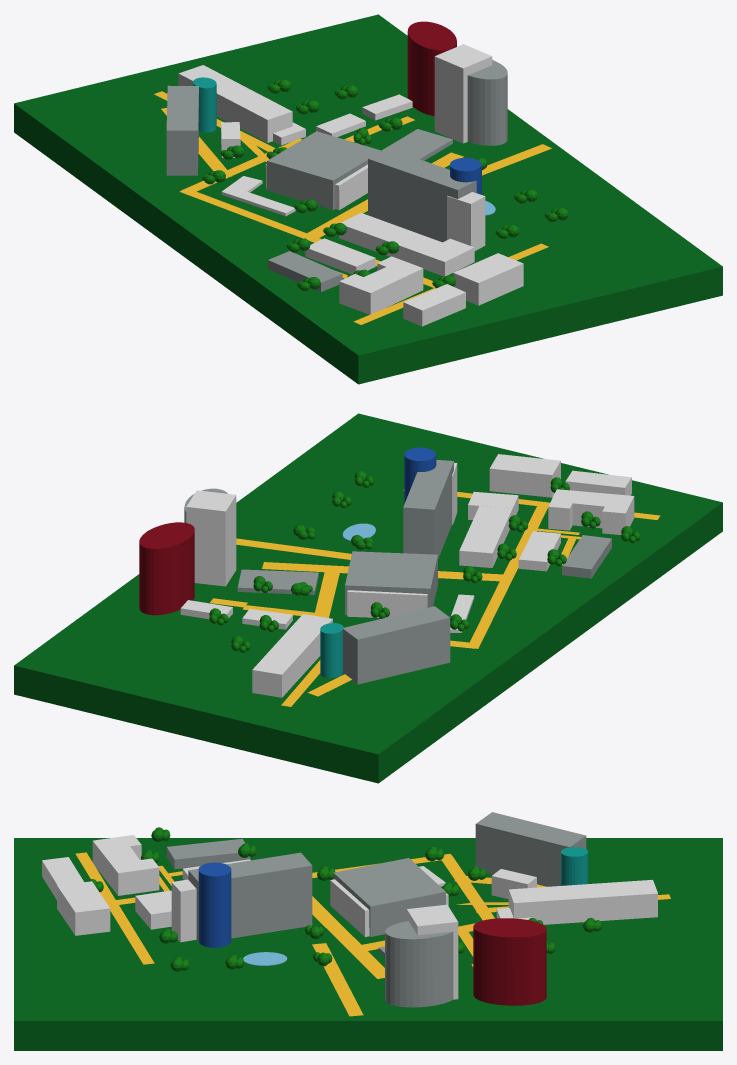
File: MapV2.glb
3 renders of one model, top to bottom at view 1: azimuth 30°, elevation 25°; view 2: azimuth 150°, elevation 25°; view 3: azimuth 270°, elevation 25°, orthographic. The views are drawn at different scales.
Visible parts, largest first — view 1: Cube.021, Cube.011, Cube.009, Cube.001, Cube.017, Cube.010, Cylinder.002, Cylinder, Cube.016, Cube.020, Cube.013, Cube.012 (+14 smaller); view 2: Cube.021, Cube.016, Cylinder, Cube.001, Cube.011, Cube.009, Cube.017, Cube.010, Cube.020, Cube.013, Cube, Plane.004 (+12 smaller); view 3: Cube.021, Cube.011, Cylinder, Cube.017, Cylinder.002, Cube.016, Cube.009, Cube.010, Cylinder.001, Cube.020, Cube.008, Cube.001 (+11 smaller).
Boxes of the visible parts, box(x1,y1,x2,y2) form: Cube.021: box(14, 14, 722, 384); Cube.011: box(368, 148, 476, 242); Cube.009: box(267, 131, 382, 209); Cube.001: box(434, 44, 492, 143); Cube.017: box(178, 65, 292, 142); Cube.010: box(339, 256, 423, 314); Cylinder.002: box(467, 60, 507, 145); Cylinder: box(407, 21, 456, 115); Cube.016: box(166, 85, 198, 175); Cube.020: box(453, 253, 523, 305); Cube.013: box(339, 213, 442, 266); Cube.012: box(447, 192, 485, 250); Cube.021: box(14, 413, 722, 783); Cube.016: box(342, 606, 450, 684); Cylinder: box(139, 522, 194, 615); Cube.001: box(186, 490, 236, 586); Cube.011: box(403, 459, 453, 558); Cube.009: box(345, 551, 437, 614); Cube.017: box(252, 614, 332, 697); Cube.010: box(548, 489, 634, 534); Cube.020: box(489, 454, 560, 497); Cube.013: box(459, 506, 512, 567); Cube: box(347, 590, 427, 617); Plane.004: box(469, 505, 548, 648); Cube.021: box(14, 838, 722, 1050); Cube.011: box(188, 852, 312, 941); Cylinder: box(473, 918, 546, 1005); Cube.017: box(508, 879, 657, 924); Cylinder.002: box(385, 921, 453, 1007); Cube.016: box(475, 812, 586, 886); Cube.009: box(333, 858, 445, 936); Cube.010: box(92, 835, 159, 895); Cylinder.001: box(198, 862, 231, 947); Cube.020: box(57, 881, 110, 935); Cube.008: box(166, 838, 250, 869); Cube.001: box(407, 904, 458, 999).
Size of the model in its own units: 26.32 by 7.18 by 43.06.
